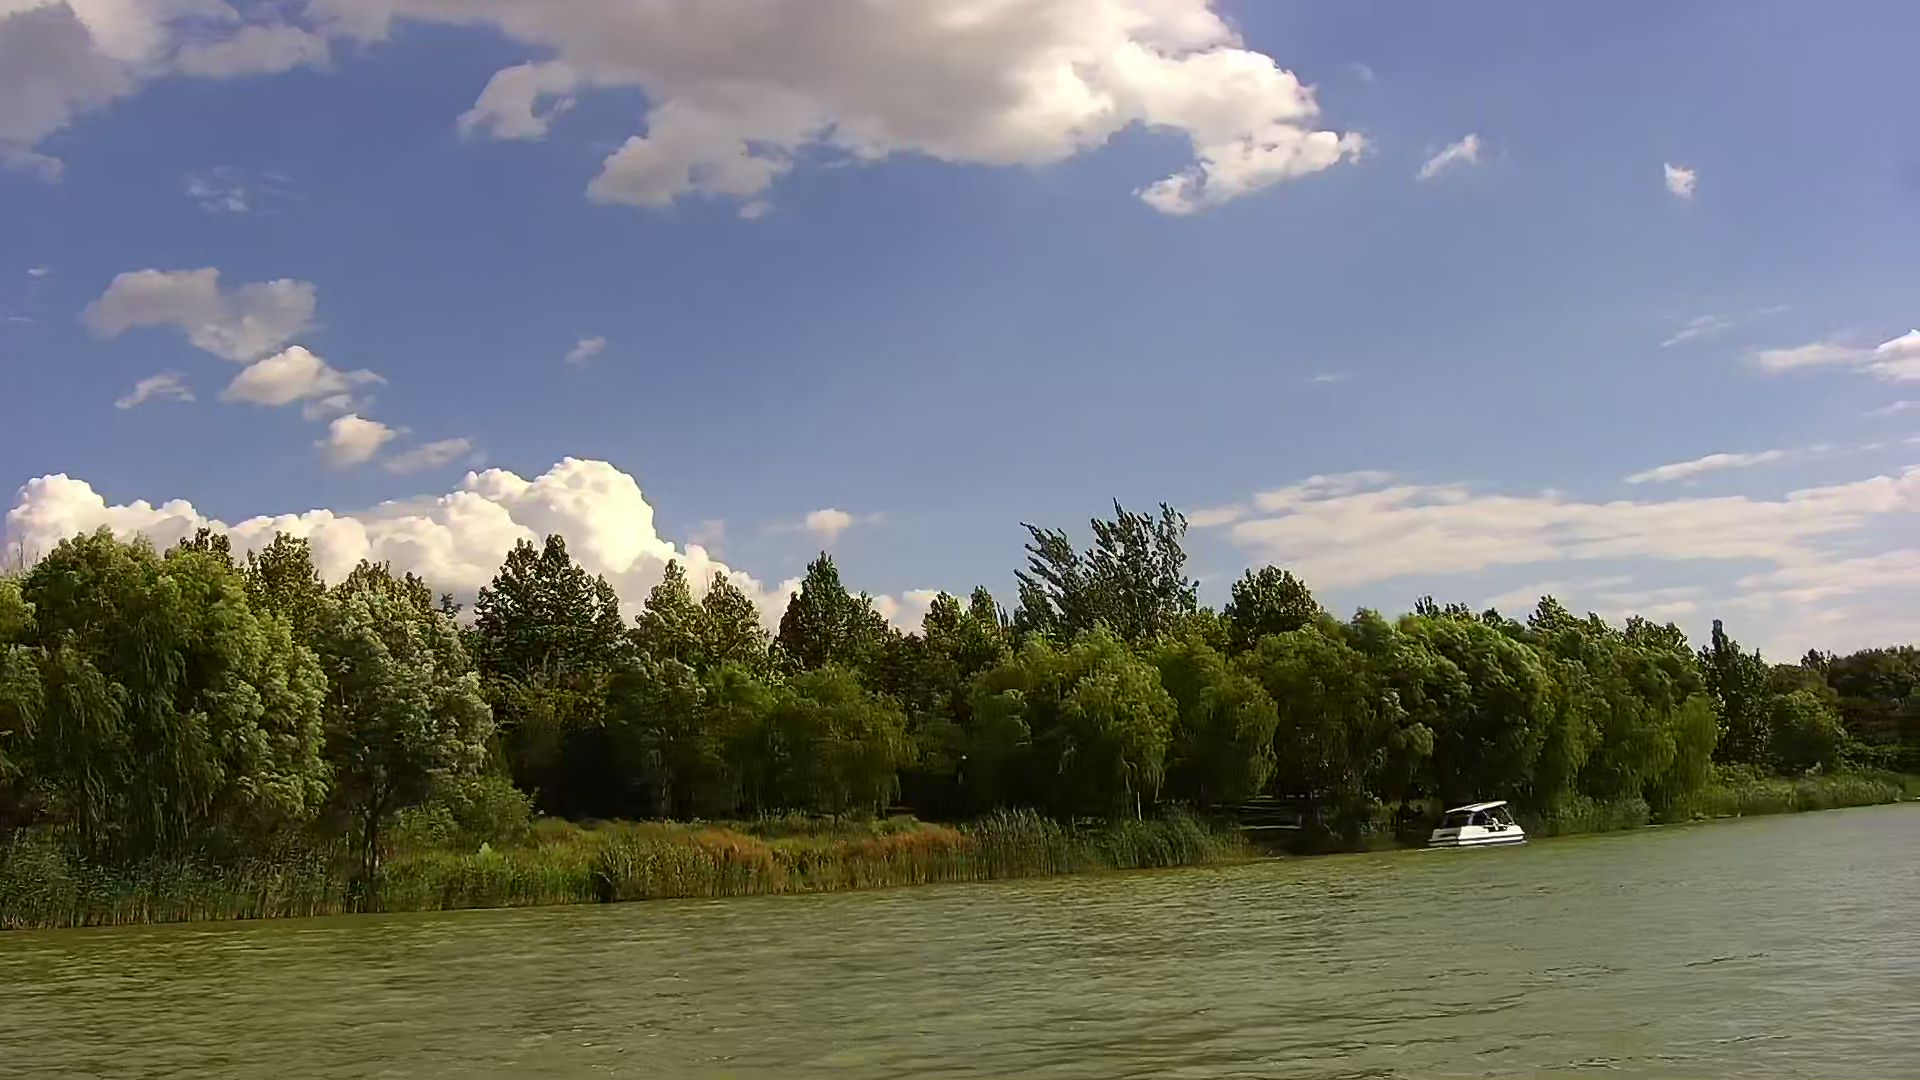boat: (1429, 799, 1524, 851)
